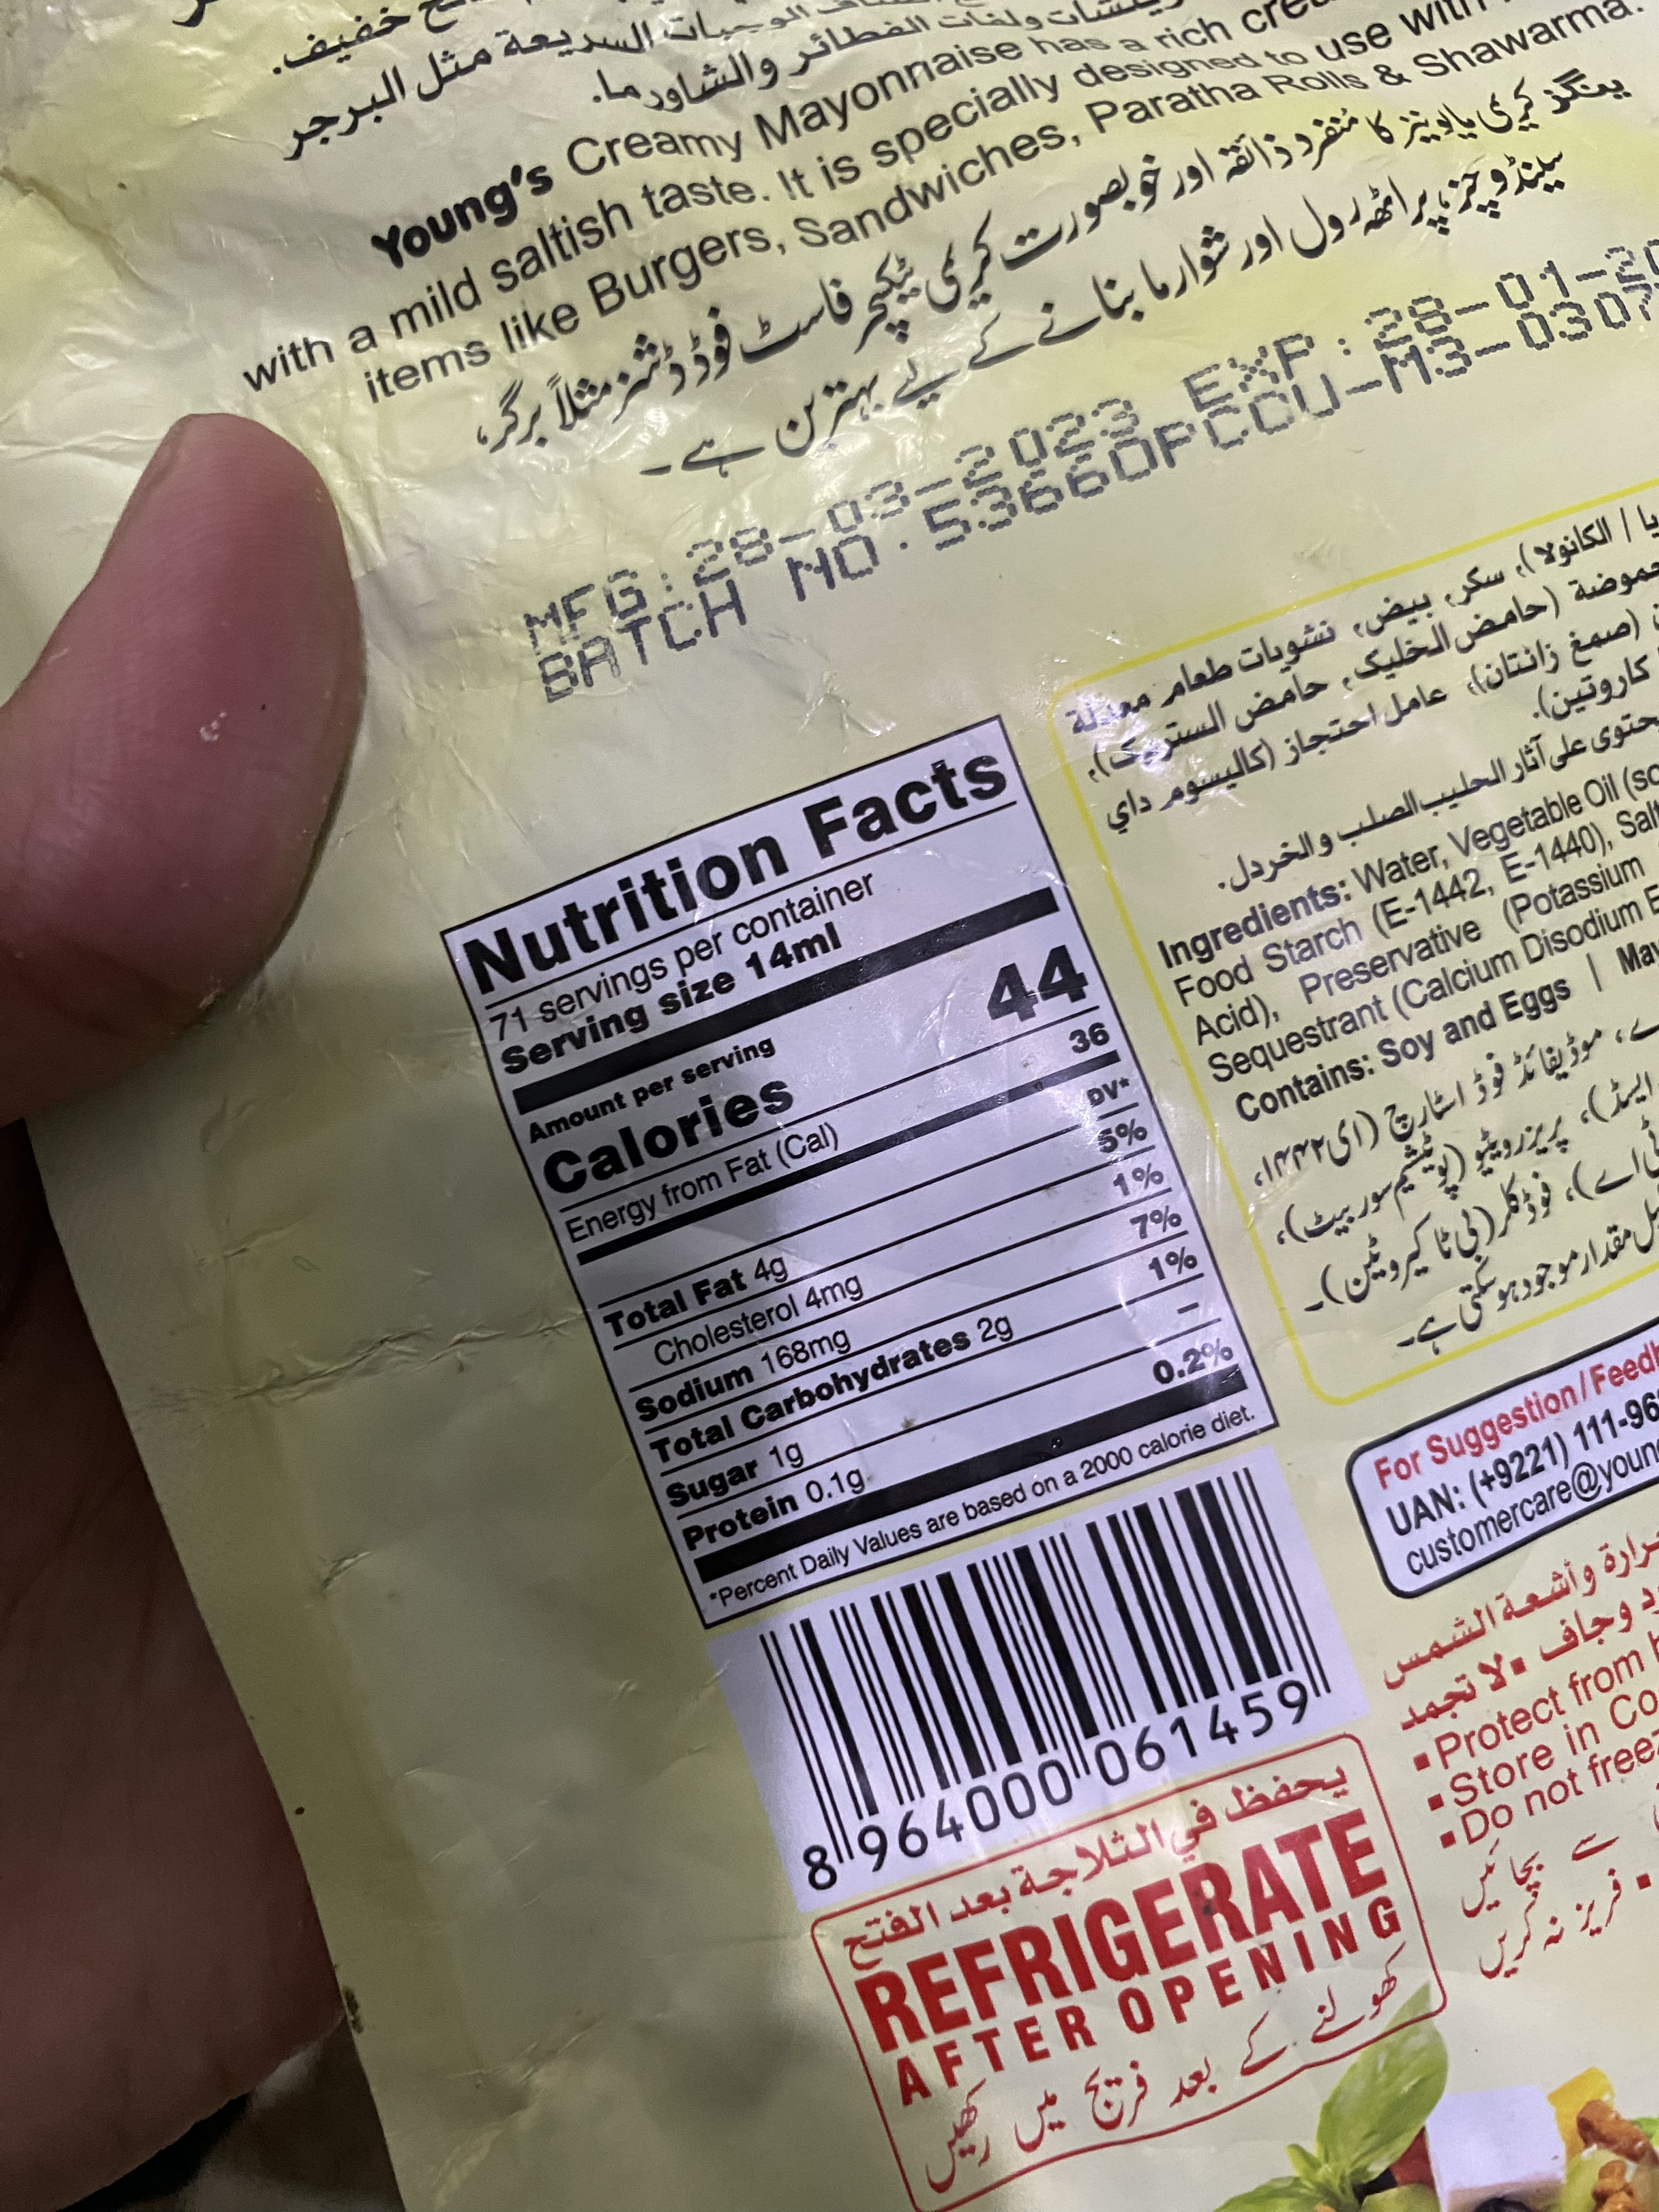table: (430, 712, 1291, 1644)
